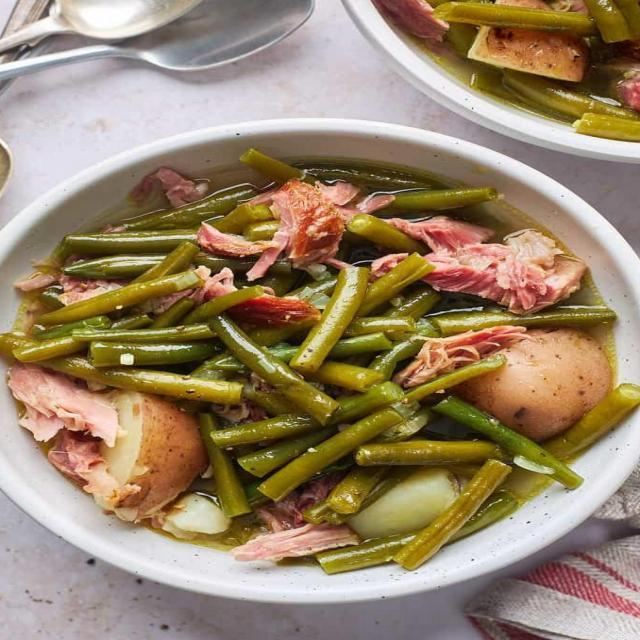Beans: (0, 151, 620, 564), (374, 0, 639, 135)
